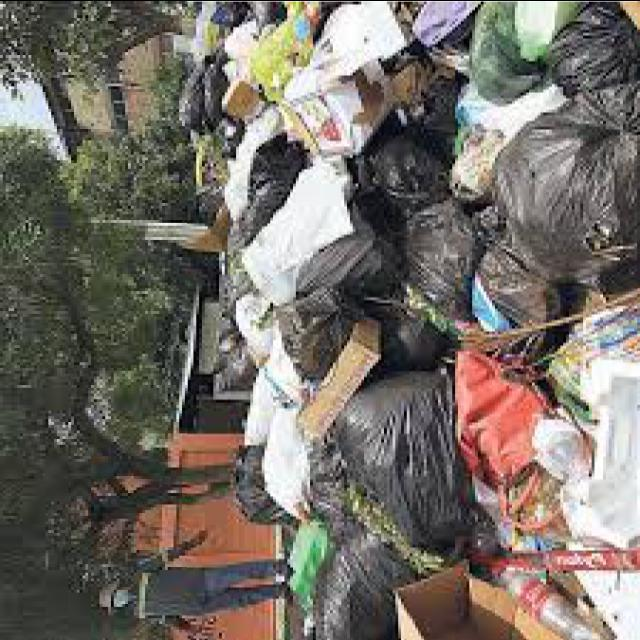Trashbag: (265, 230, 528, 372), (307, 362, 494, 550), (459, 117, 640, 279), (515, 23, 640, 205), (251, 547, 438, 640), (352, 135, 502, 244)
